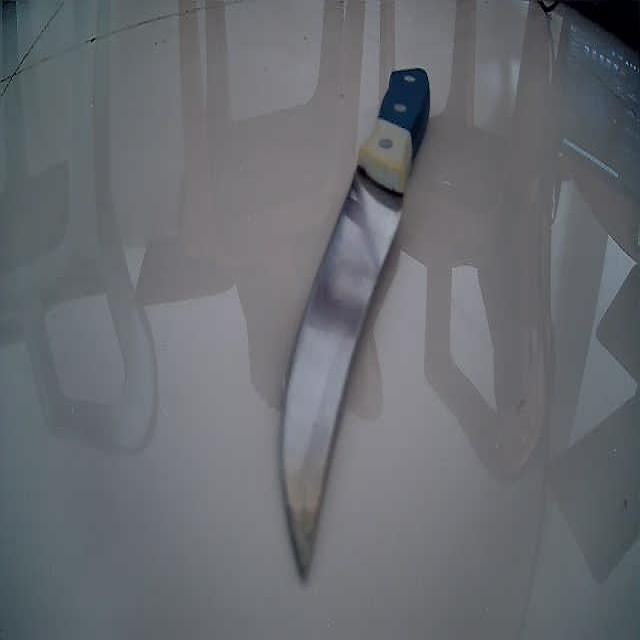knife: (279, 67, 431, 582)
